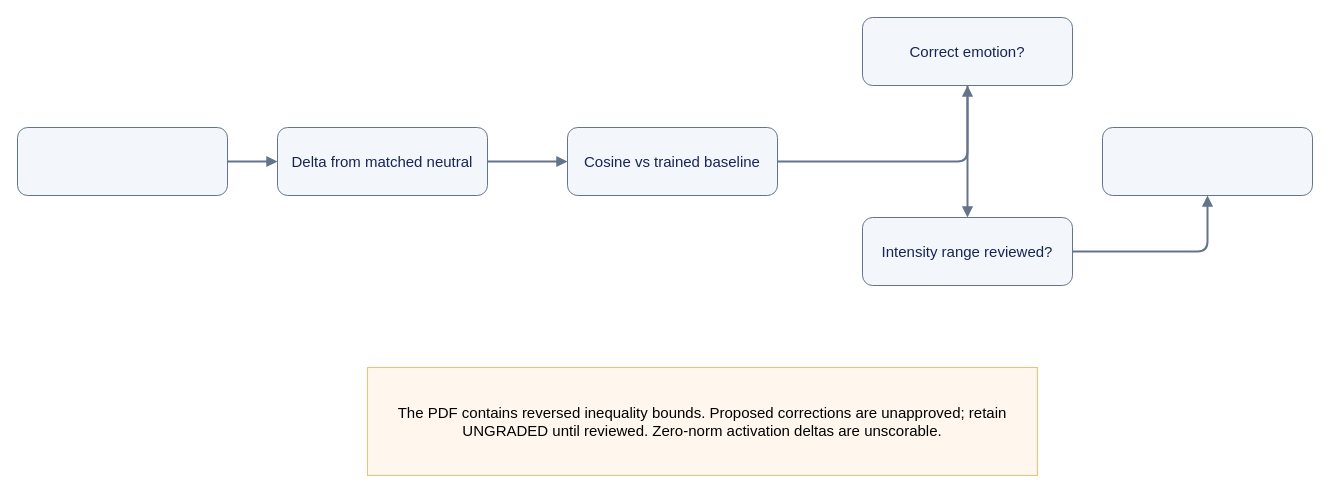
Some shapes in this 1330 by 493 pixel diagram are drawn without their labels. Each missing label, with the centre of its shape:
"Capture hidden state" goes at (122,161).
"Valid / Invalid / Ungraded" goes at (1207,161).
